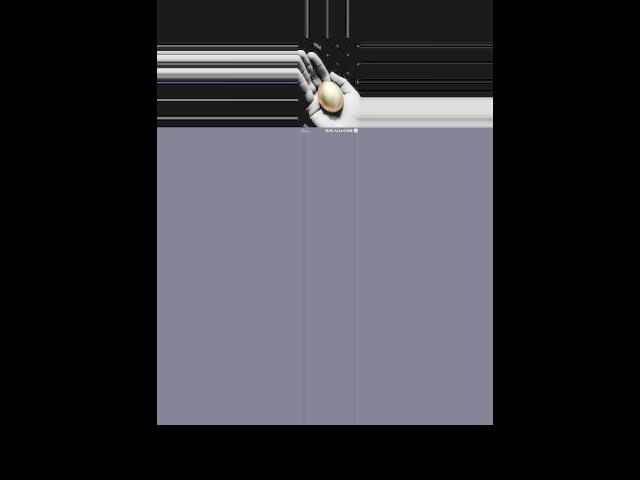egg: (317, 80, 343, 111)
